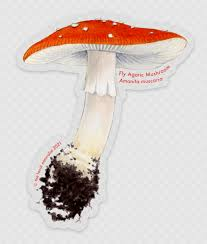Amanita muscaria: (14, 14, 189, 180)
